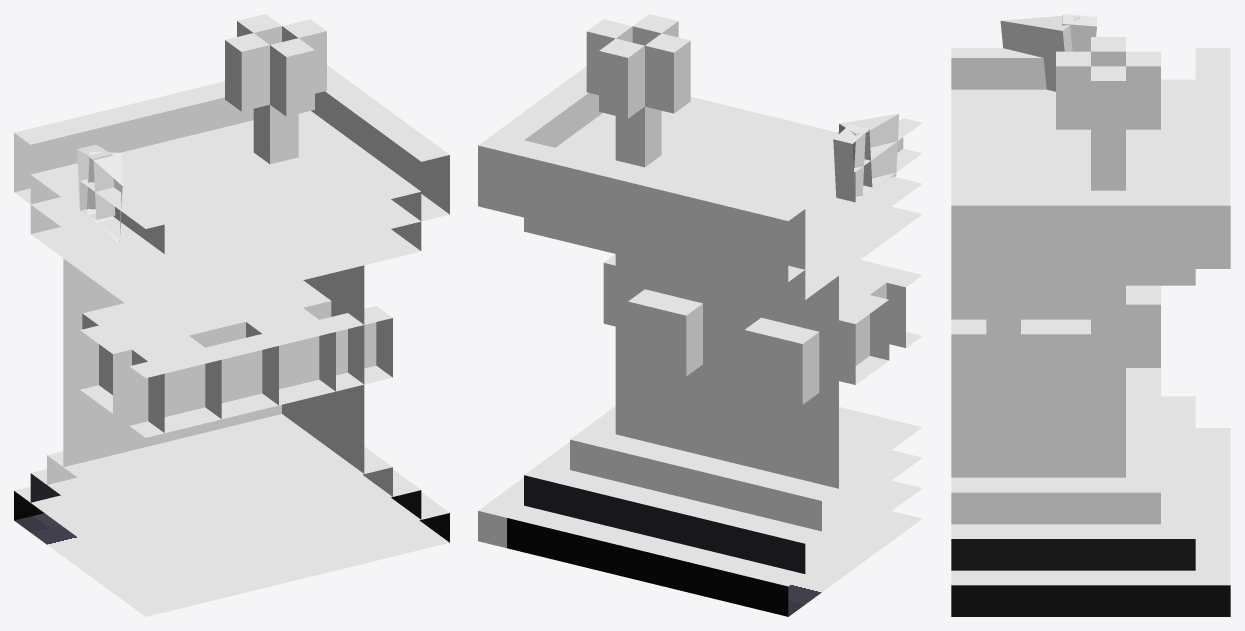
Rendered from forbidden_hex_source_altar_imported_formed_2.obj.
3 views of the same model, side by side, from view 1: azimuth 30°, elevation 25°; view 2: azimuth 150°, elevation 25°; view 3: azimuth 270°, elevation 25° (orthographic). The views are drawn at different scales.
Parts seen in each view (by area): view 1: altar; view 2: altar; view 3: altar.
Part boxes in pixels (left/top/right/bottom): altar: left=14, top=14, right=449, bottom=616; altar: left=478, top=14, right=922, bottom=616; altar: left=951, top=14, right=1230, bottom=616.
Bounding box in the file's own units: 1 × 1.5 × 0.75.
